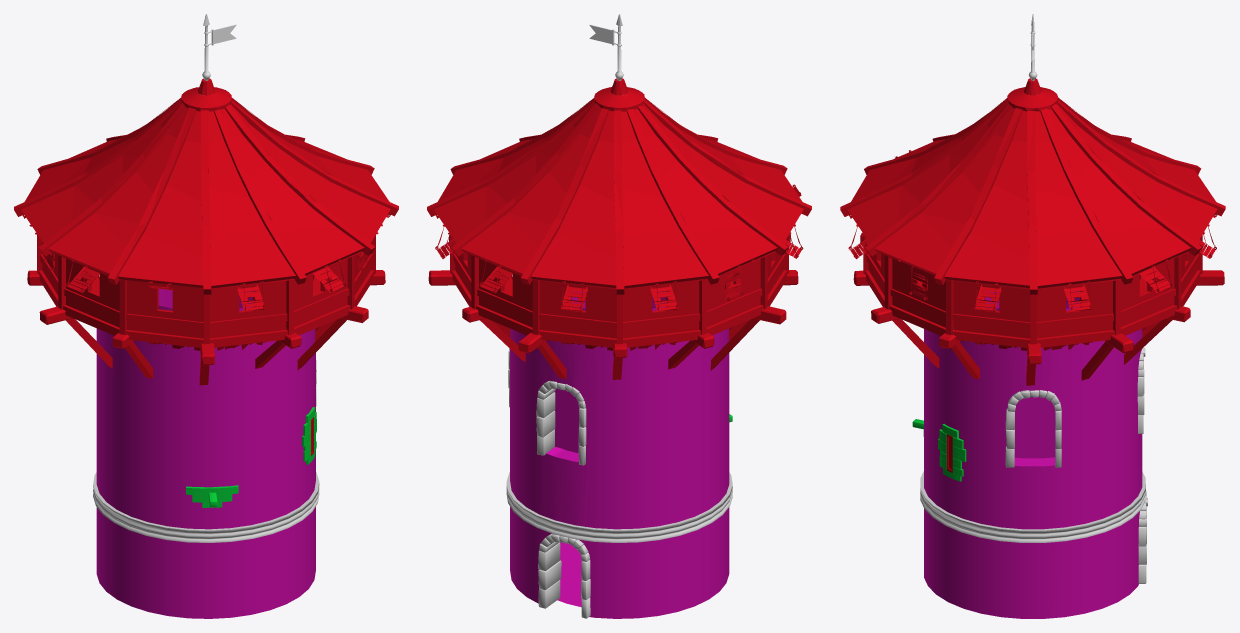
Rendered from Tower_5 (1).fbx.
The picture shows the model from 3 angles, left to right: view 1: azimuth 30°, elevation 25°; view 2: azimuth 150°, elevation 25°; view 3: azimuth 270°, elevation 25°; orthographic projection.
Visible parts, largest first — view 1: Group_4.010, Tower_1.004, Group_2, Group_2.007, Group_4.011; view 2: Group_4.010, Tower_1.004, Group_4.011; view 3: Group_4.010, Tower_1.004, Group_2.007.
Part boxes in pixels (<box>): Group_4.010: <box>14,78,398,385</box>; Tower_1.004: <box>93,289,319,618</box>; Group_2: <box>186,485,238,507</box>; Group_2.007: <box>302,407,316,464</box>; Group_4.011: <box>200,14,236,95</box>; Group_4.010: <box>427,78,811,379</box>; Tower_1.004: <box>506,291,732,618</box>; Group_4.011: <box>589,14,623,80</box>; Group_4.010: <box>840,78,1225,385</box>; Tower_1.004: <box>920,291,1147,618</box>; Group_2.007: <box>938,424,966,481</box>.
Bounding box in the file's own units: 1137 × 1813 × 1133.
